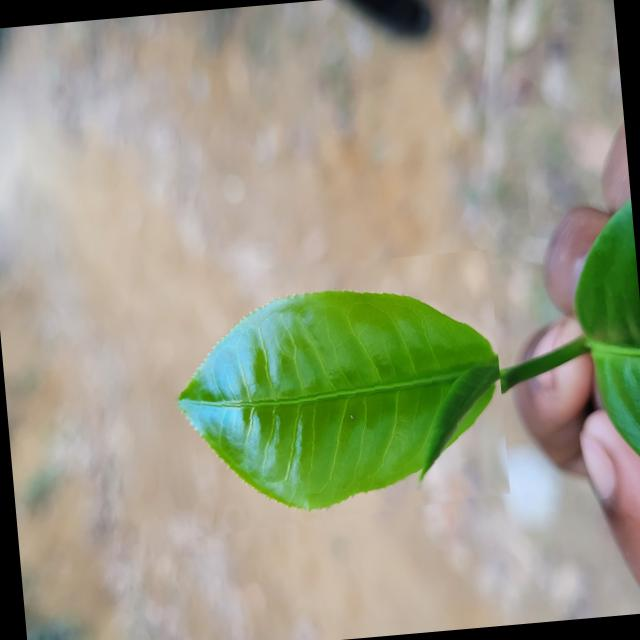Catagory A(1-2 days): (156, 248, 512, 538)
